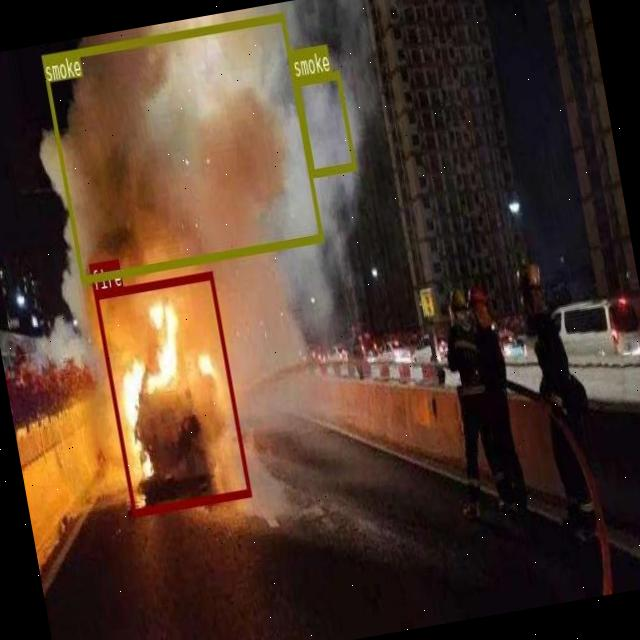fire: (92, 270, 250, 516)
smoke: (41, 12, 323, 282), (294, 69, 356, 176)
